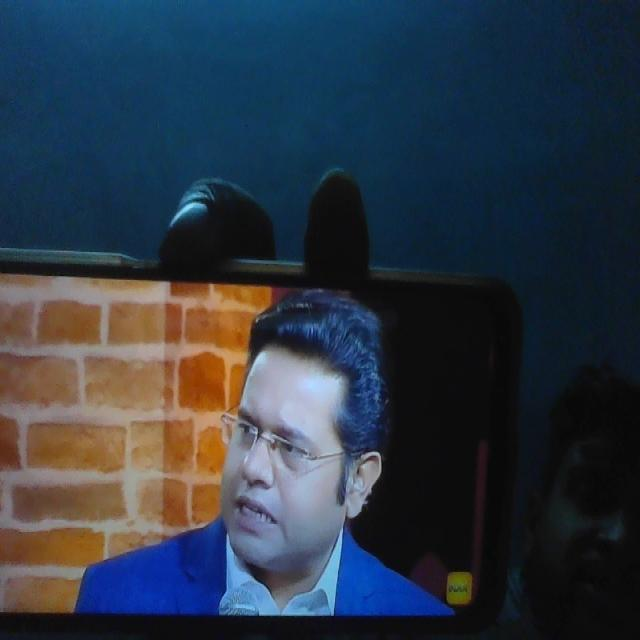fake: (218, 303, 363, 576)
